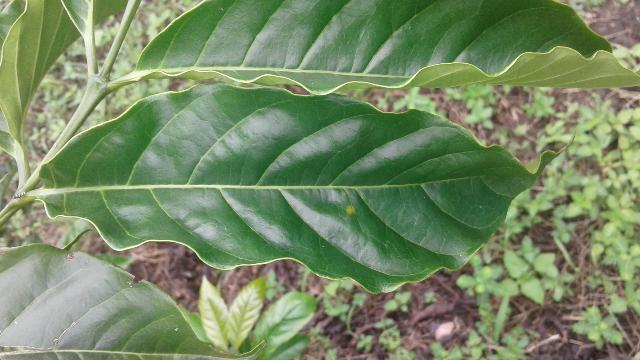rust_level_1: (37, 87, 572, 293)
